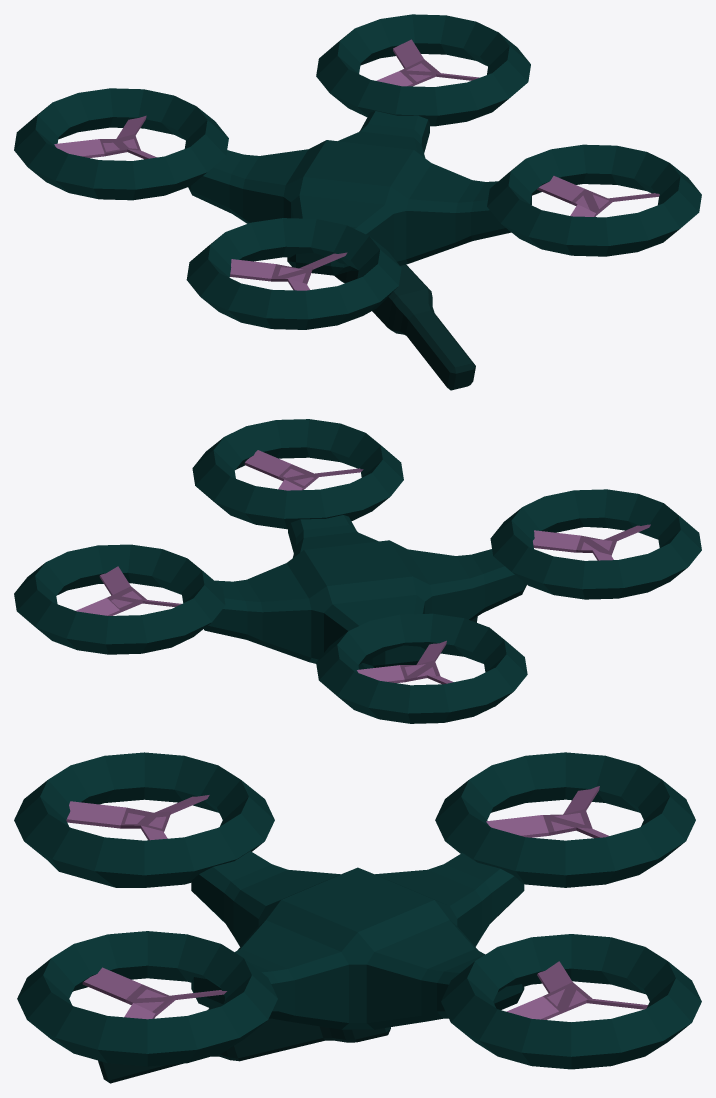
Rendered from UAV.fbx.
3 renders of one model, top to bottom at view 1: azimuth 30°, elevation 25°; view 2: azimuth 150°, elevation 25°; view 3: azimuth 270°, elevation 25°, orthographic. The views are drawn at different scales.
Visible parts, largest first — view 1: Body, Turret; view 2: Body; view 3: Body, Turret.
Boxes of the visible parts, <box> form: Body: <box>14,14,701,329</box>; Turret: <box>334,264,475,390</box>; Body: <box>14,419,701,723</box>; Body: <box>14,752,701,1069</box>; Turret: <box>98,1008,390,1083</box>.
Bounding box in the file's own units: 95.84 × 29.94 × 95.92.
